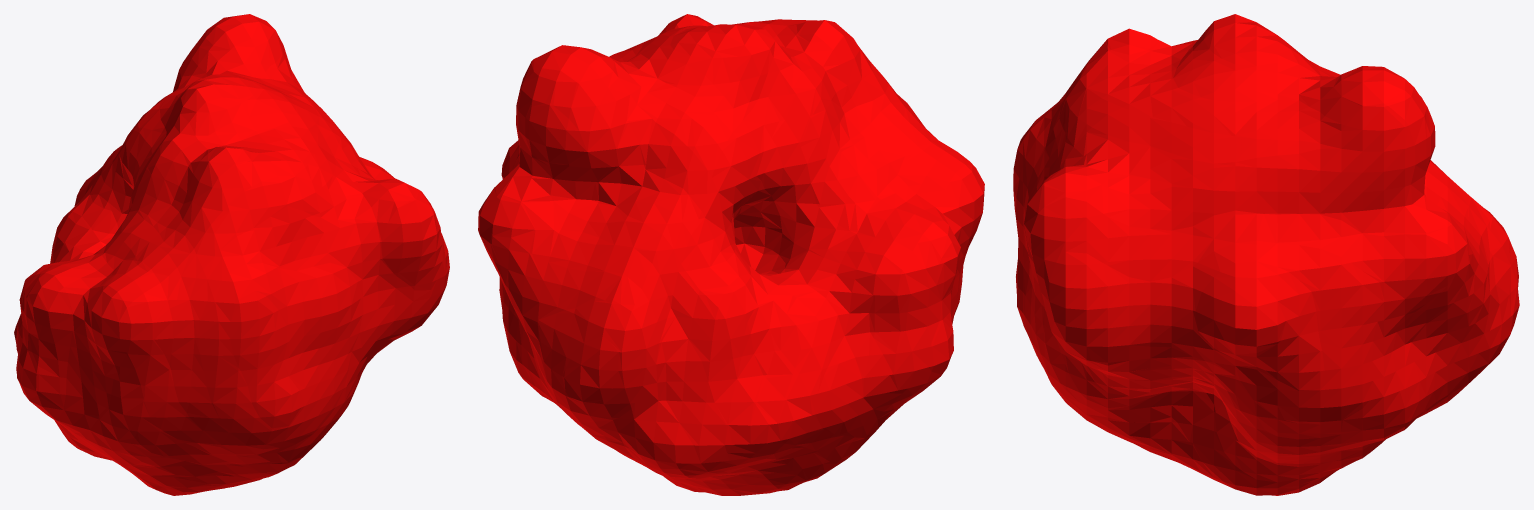
The model's file is pgl_coarse.dae.
3 renders of one model, left to right at view 1: azimuth 30°, elevation 25°; view 2: azimuth 150°, elevation 25°; view 3: azimuth 270°, elevation 25°, orthographic. The views are drawn at different scales.
Parts seen in each view (by area): view 1: pgl; view 2: pgl; view 3: pgl.
Boxes of the visible parts, box(x1,y1,x2,y2) form: pgl: box(14, 14, 449, 495); pgl: box(478, 14, 984, 495); pgl: box(1013, 14, 1519, 495).
Bounding box in the file's own units: 54.83 × 53.2 × 53.23.
